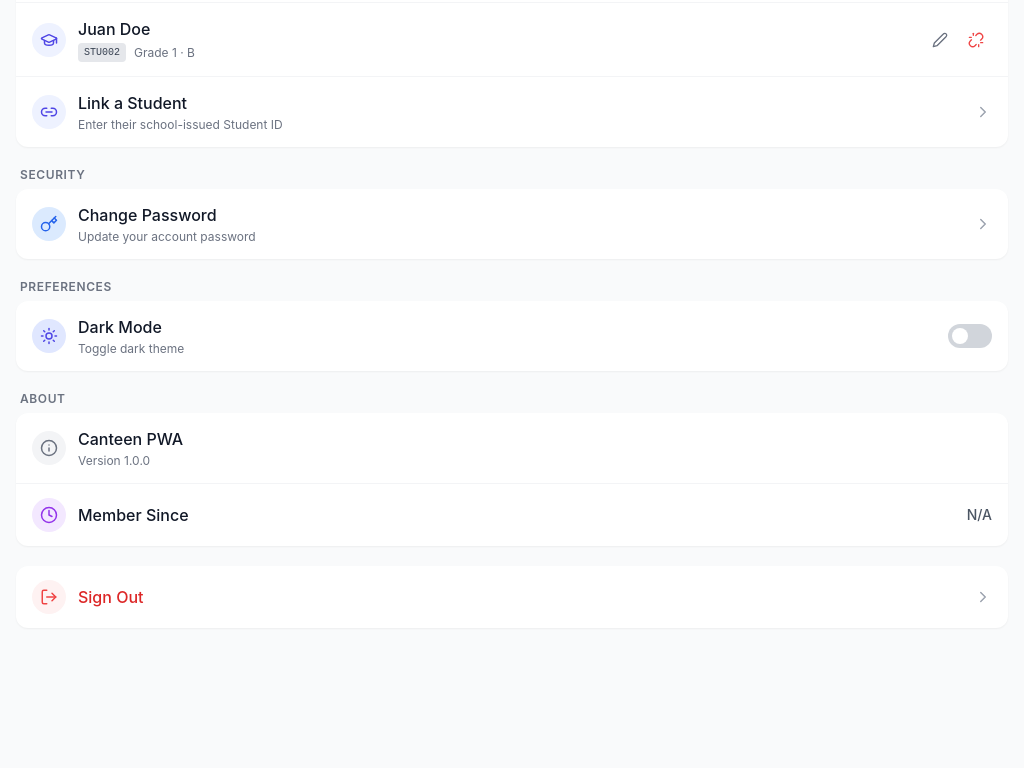
Scenario: Profile Page › Logout › shows logout confirmation dialog when clicked
(page scrolled)
Click the button "Sign Out" at {"x": 49, "y": 597}, box [16, 566, 1008, 628]
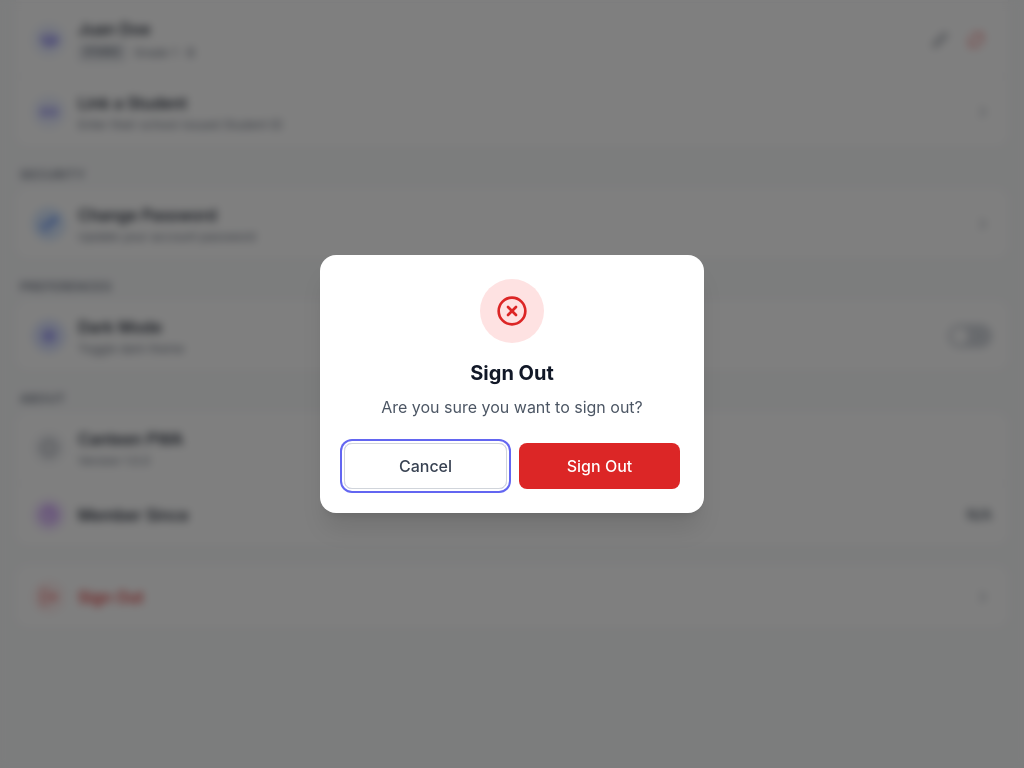
Expected: the text "Are you sure you want to sign out?" is shown, [381, 397, 643, 417]
